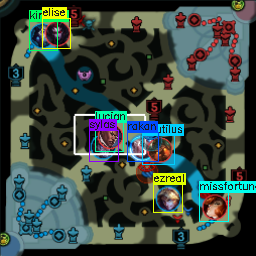elise: (44, 20, 70, 45)
ezreal: (156, 186, 181, 211)
kindred: (29, 24, 55, 48)
lucian: (98, 124, 123, 148)
missfortune: (201, 194, 228, 219)
nautilus: (147, 138, 171, 162)
rakan: (130, 135, 153, 159)
sylas: (91, 136, 116, 159)
